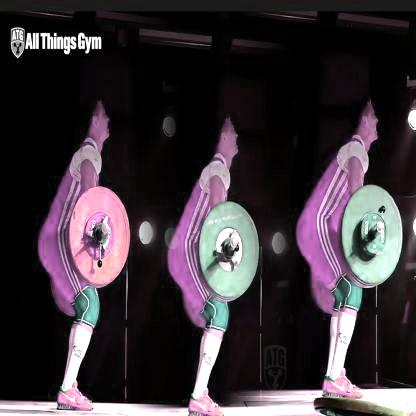Barbell: (101, 219, 112, 237), (377, 219, 386, 236), (229, 235, 239, 250)
